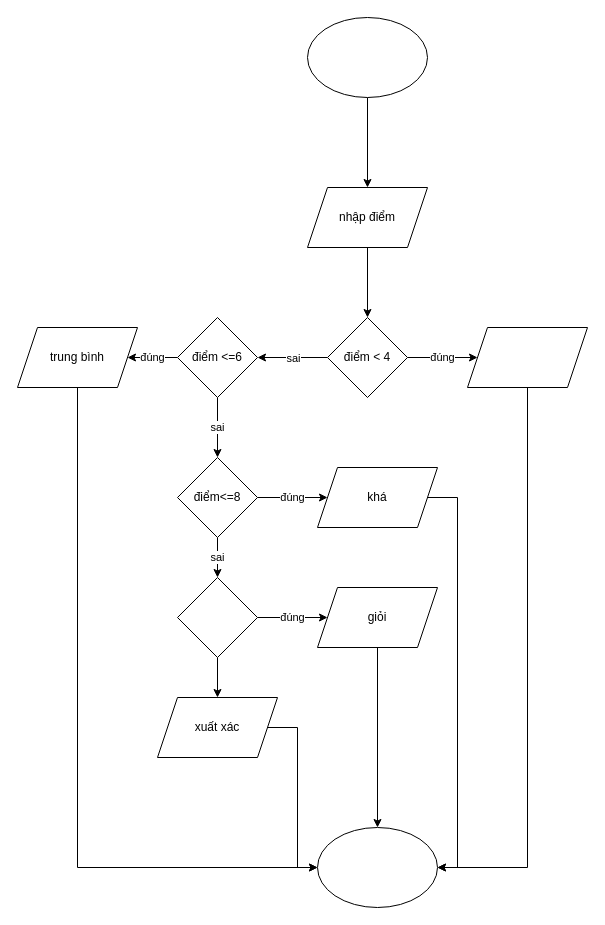
Some shapes in this 605 by 925 pixel diagram are drawn without their labels. The centre of each missing label's shape, as x and y in pixels:
"Bắt đầu" goes at pixel 367 57.
"không đạt" goes at pixel 527 357.
"kết thúc" goes at pixel 377 867.
"điểm<=9" goes at pixel 217 617.
